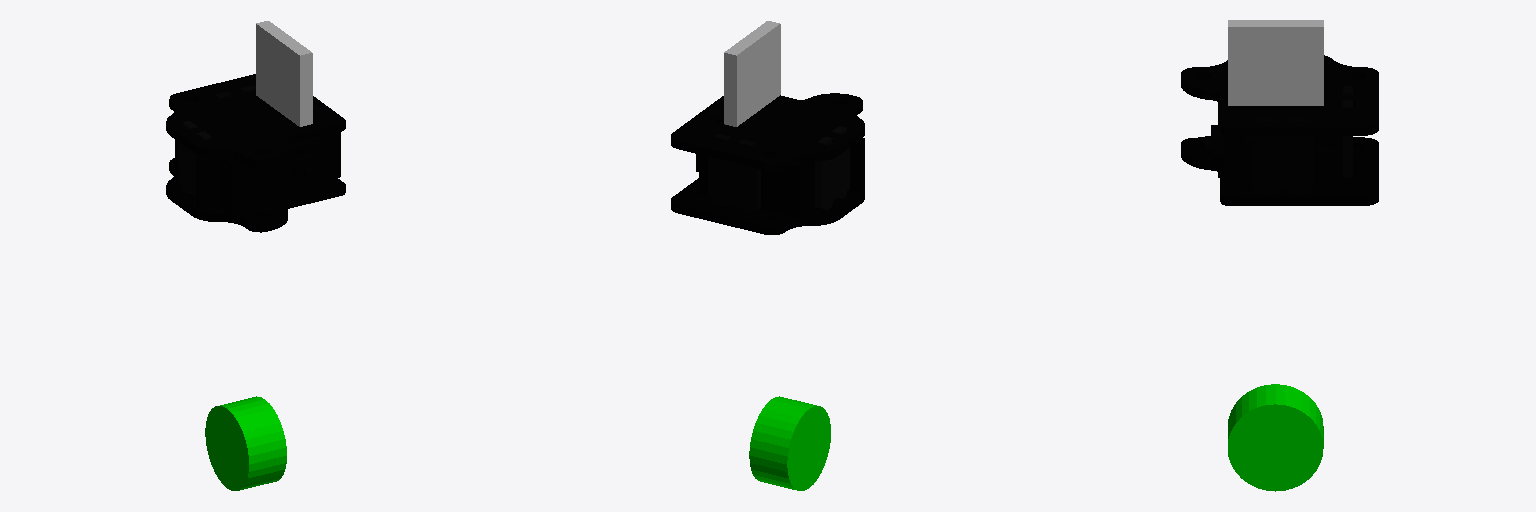
--- Render facts (derived) ---
The picture shows the robot from 3 angles, left to right: view 1: azimuth 30°, elevation 25°; view 2: azimuth 150°, elevation 25°; view 3: azimuth 270°, elevation 25°; orthographic projection.
Model mybot with 20 links and 19 joints (3 revolute, 2 continuous, 14 fixed), rooted at base_footprint, posed every joint at zero.
Visible links, largest first — view 1: base_camera1, servo_garra1, bumper_link, camera_link, base_link_garra, lat31; view 2: base_camera1, bumper_link, camera_link, base_link_garra, servo_garra1, lat11, lat31; view 3: bumper_link, camera_link, base_camera1, base_link_garra, servo_garra1, lat21, lat11.
Boxes of the visible links, x1,y1,x2,y2 form: base_camera1: (166,74,345,167); servo_garra1: (175,132,340,215); bumper_link: (205,396,286,490); camera_link: (256,21,312,126); base_link_garra: (166,158,345,232); lat31: (179,121,211,194); base_camera1: (671,93,864,170); bumper_link: (749,396,830,490); camera_link: (724,21,780,126); base_link_garra: (671,178,864,234); servo_garra1: (696,138,864,218); lat11: (708,134,760,211); lat31: (815,126,849,209); bumper_link: (1228,384,1323,491); camera_link: (1228,20,1323,105); base_camera1: (1181,55,1378,135); base_link_garra: (1181,137,1378,205); servo_garra1: (1205,102,1342,198); lat21: (1253,117,1313,194); lat11: (1343,86,1352,177).
Size in the robot's own frame: 0.0567 by 0.0621 by 0.1645 metres.
Meshes: 13 distinct files referenced, 6 mesh visuals loaded (6 Collada DAE); not drawn: 7 (reference not matched to a file when rendering).

robot.urdf — mybot:
<?xml version="1.0" ?>
<!-- =================================================================================== -->
<!-- |    This document was autogenerated by xacro from mybot.urdf.xacro               | -->
<!-- |    EDITING THIS FILE BY HAND IS NOT RECOMMENDED                                 | -->
<!-- =================================================================================== -->
<robot name="mybot">
  <!-- Init colour -->
  <material name="black">
    <color rgba="0.0 0.0 0.0 1.0"/>
  </material>
  <material name="dark">
    <color rgba="0.3 0.3 0.3 1.0"/>
  </material>
  <material name="light_black">
    <color rgba="0.4 0.4 0.4 1.0"/>
  </material>
  <material name="blue">
    <color rgba="0.0 0.0 0.8 1.0"/>
  </material>
  <material name="green">
    <color rgba="0.0 0.8 0.0 1.0"/>
  </material>
  <material name="grey">
    <color rgba="0.5 0.5 0.5 1.0"/>
  </material>
  <material name="orange">
    <color rgba="1.0 0.4235294117647059 0.0392156862745098 1.0"/>
  </material>
  <material name="brown">
    <color rgba="0.8705882352941177 0.8117647058823529 0.7647058823529411 1.0"/>
  </material>
  <material name="red">
    <color rgba="0.8 0.0 0.0 1.0"/>
  </material>
  <material name="white">
    <color rgba="1.0 1.0 1.0 1.0"/>
  </material>
  <gazebo reference="base_link">
    <material>Gazebo/DarkGrey</material>
  </gazebo>
  <gazebo reference="wheel_left_link">
    <mu1>0.1</mu1>
    <mu2>0.1</mu2>
    <kp>500000.0</kp>
    <kd>10.0</kd>
    <minDepth>0.001</minDepth>
    <maxVel>0.1</maxVel>
    <fdir1>1 0 0</fdir1>
    <material>Gazebo/FlatBlack</material>
  </gazebo>
  <gazebo reference="wheel_right_link">
    <mu1>0.1</mu1>
    <mu2>0.1</mu2>
    <kp>500000.0</kp>
    <kd>10.0</kd>
    <minDepth>0.001</minDepth>
    <maxVel>0.1</maxVel>
    <fdir1>1 0 0</fdir1>
    <material>Gazebo/FlatBlack</material>
  </gazebo>
  <gazebo reference="caster_back_link">
    <mu1>0.1</mu1>
    <mu2>0.1</mu2>
    <kp>1000000.0</kp>
    <kd>100.0</kd>
    <minDepth>0.001</minDepth>
    <maxVel>1.0</maxVel>
    <material>Gazebo/FlatBlack</material>
  </gazebo>
  <gazebo reference="imu_link">
    <sensor name="imu" type="imu">
      <always_on>true</always_on>
      <visualize>false</visualize>
    </sensor>
    <material>Gazebo/FlatBlack</material>
  </gazebo>
  <gazebo>
    <plugin filename="libgazebo_ros_diff_drive.so" name="turtlebot3_burger_controller">
      <commandTopic>cmd_vel</commandTopic>
      <odometryTopic>odom</odometryTopic>
      <odometryFrame>odom</odometryFrame>
      <odometrySource>world</odometrySource>
      <publishOdomTF>true</publishOdomTF>
      <robotBaseFrame>base_footprint</robotBaseFrame>
      <publishWheelTF>false</publishWheelTF>
      <publishTf>true</publishTf>
      <publishWheelJointState>true</publishWheelJointState>
      <legacyMode>false</legacyMode>
      <updateRate>30</updateRate>
      <leftJoint>wheel_left_joint</leftJoint>
      <rightJoint>wheel_right_joint</rightJoint>
      <wheelSeparation>0.160</wheelSeparation>
      <wheelDiameter>0.066</wheelDiameter>
      <wheelAcceleration>1</wheelAcceleration>
      <wheelTorque>10</wheelTorque>
      <rosDebugLevel>na</rosDebugLevel>
    </plugin>
  </gazebo>
  <gazebo>
    <plugin filename="libgazebo_ros_imu.so" name="imu_plugin">
      <alwaysOn>true</alwaysOn>
      <bodyName>imu_link</bodyName>
      <topicName>imu</topicName>
      <serviceName>imu_service</serviceName>
      <gaussianNoise>0.0</gaussianNoise>
      <updateRate>200</updateRate>
      <imu>
        <noise>
          <type>gaussian</type>
          <rate>
            <mean>0.0</mean>
            <stddev>2e-4</stddev>
            <bias_mean>0.0000075</bias_mean>
            <bias_stddev>0.0000008</bias_stddev>
          </rate>
          <accel>
            <mean>0.0</mean>
            <stddev>1.7e-2</stddev>
            <bias_mean>0.1</bias_mean>
            <bias_stddev>0.001</bias_stddev>
          </accel>
        </noise>
      </imu>
    </plugin>
  </gazebo>
  <gazebo reference="base_scan">
    <material>Gazebo/FlatBlack</material>
    <sensor name="lds_lfcd_sensor" type="ray">
      <pose>0 0 0 0 0 0</pose>
      <visualize>false</visualize>
      <update_rate>5</update_rate>
      <ray>
        <scan>
          <horizontal>
            <samples>360</samples>
            <resolution>1</resolution>
            <min_angle>0.0</min_angle>
            <max_angle>6.28319</max_angle>
          </horizontal>
        </scan>
        <range>
          <min>0.120</min>
          <max>3.5</max>
          <resolution>0.015</resolution>
        </range>
        <noise>
          <type>gaussian</type>
          <mean>0.0</mean>
          <stddev>0.01</stddev>
        </noise>
      </ray>
      <plugin filename="libgazebo_ros_laser.so" name="gazebo_ros_lds_lfcd_controller">
        <topicName>scan</topicName>
        <frameName>base_scan</frameName>
      </plugin>
    </sensor>
  </gazebo>
  <!--bumper turtlebot3 insper-->
  <gazebo reference="bumper_link">
    <sensor name="contacts" type="contact">
      <contact>
        <collision>base_footprint_fixed_joint_lump__base_collision_collision_1</collision>
      </contact>
      <plugin filename="libgazebo_ros_bumper.so" name="gazebo_ros_bumper_controller">
        <always_on>true</always_on>
        <!--  <robotNamespace>/bumper</robotNamespace> -->
        <bumperTopicName>bumper_states</bumperTopicName>
        <frameName>bumper</frameName>
        <visualize>true</visualize>
        <update_rate>50.0</update_rate>
      </plugin>
    </sensor>
    <material>Gazebo/Green</material>
    <mu1>0.1</mu1>
    <mu2>0.1</mu2>
    <gravity>true</gravity>
    <selfCollide>false</selfCollide>
  </gazebo>
  <!--camera turtlebot3 insper-->
  <!--link : https://www.raspberrypi.org/documentation/hardware/camera/-->
  <gazebo reference="camera_rgb_frame">
    <sensor name="Pi Camera" type="camera">
      <always_on>true</always_on>
      <visualize>false</visualize>
      <camera>
        <horizontal_fov>1.085595</horizontal_fov>
        <image>
          <width>640</width>
          <height>480</height>
          <format>R8G8B8</format>
        </image>
        <clip>
          <near>0.03</near>
          <far>100</far>
        </clip>
      </camera>
      <plugin filename="libgazebo_ros_camera.so" name="camera_controller">
        <alwaysOn>true</alwaysOn>
        <updateRate>30.0</updateRate>
        <cameraName>camera</cameraName>
        <frameName>camera_rgb_optical_frame</frameName>
        <imageTopicName>image</imageTopicName>
        <cameraInfoTopicName>camera_info</cameraInfoTopicName>
        <hackBaseline>0.07</hackBaseline>
        <distortionK1>0.0</distortionK1>
        <distortionK2>0.0</distortionK2>
        <distortionK3>0.0</distortionK3>
        <distortionT1>0.0</distortionT1>
        <distortionT2>0.0</distortionT2>
      </plugin>
    </sensor>
  </gazebo>
  <!--garra turtlebot3 insper-->
  <!-- ROS Control -->
  <gazebo>
    <plugin filename="libgazebo_ros_control.so" name="gazebo_ros_control">
      <!-- <robotNamespace>/mybot</robotNamespace> -->
    </plugin>
  </gazebo>
  <!-- loading plugin: mimic joints works in gazebo now -->
  <gazebo>
    <plugin filename="libroboticsgroup_gazebo_mimic_joint_plugin.so" name="gazebo_gripper_ros_control">
      <joint>joint2</joint>
      <mimicJoint>joint3</mimicJoint>
      <multiplier>1.0</multiplier>
      <offset>0.0</offset>
      <!-- <hasPID>mybot/gazebo_ros_control/pid_gains/joint3</hasPID> -->
      <hasPID>gazebo_ros_control/pid_gains/joint3</hasPID>
    </plugin>
  </gazebo>
  <!-- estudar se precisa disso mesmo -->
  <gazebo reference="garra1garrabraco1">
    <kp>1000000.0</kp>
    <kd>100.0</kd>
    <mu1>30.0</mu1>
    <mu2>30.0</mu2>
    <maxVel>1.0</maxVel>
    <minDepth>0.001</minDepth>
    <material>Gazebo/DarkGrey</material>
  </gazebo>
  <gazebo reference="garra1garradireita1">
    <kp>1000000.0</kp>
    <kd>100.0</kd>
    <mu1>30.0</mu1>
    <mu2>30.0</mu2>
    <maxVel>1.0</maxVel>
    <minDepth>0.001</minDepth>
    <material>Gazebo/Green</material>
  </gazebo>
  <gazebo reference="garra1garraesquerda1">
    <kp>1000000.0</kp>
    <kd>100.0</kd>
    <mu1>30.0</mu1>
    <mu2>30.0</mu2>
    <maxVel>1.0</maxVel>
    <minDepth>0.001</minDepth>
    <material>Gazebo/Green</material>
  </gazebo>
  <!-- ROS Transmission -->
  <transmission name="joint1_tran">
    <type>transmission_interface/SimpleTransmission</type>
    <joint name="joint1">
      <!--  <hardwareInterface>hardware_interface/PositionJointInterface</hardwareInterface>-->
      <hardwareInterface>hardware_interface/EffortJointInterface</hardwareInterface>
    </joint>
    <actuator name="joint1_actr">
      <!--  <hardwareInterface>hardware_interface/PositionJointInterface</hardwareInterface>-->
      <hardwareInterface>hardware_interface/EffortJointInterface</hardwareInterface>
      <mechanicalReduction>1</mechanicalReduction>
      <!--para teste hardware_interface/PositionJointInterface
      <motorTorqueConstant>1</motorTorqueConstant>-->
    </actuator>
  </transmission>
  <transmission name="joint2_tran">
    <type>transmission_interface/SimpleTransmission</type>
    <joint name="joint2">
      <!--  <hardwareInterface>hardware_interface/PositionJointInterface</hardwareInterface>-->
      <hardwareInterface>hardware_interface/EffortJointInterface</hardwareInterface>
    </joint>
    <actuator name="joint2_actr">
      <!--  <hardwareInterface>hardware_interface/PositionJointInterface</hardwareInterface>-->
      <hardwareInterface>hardware_interface/EffortJointInterface</hardwareInterface>
      <mechanicalReduction>1</mechanicalReduction>
      <!--para teste hardware_interface/PositionJointInterface
      <motorTorqueConstant>1</motorTorqueConstant>-->
    </actuator>
  </transmission>
  <!-- 
  <transmission name="joint3_tran">
    <type>transmission_interface/SimpleTransmission</type>
    <joint name="joint3">
      <hardwareInterface>hardware_interface/EffortJointInterface</hardwareInterface>
    </joint>
    <actuator name="joint3_actr">
      <hardwareInterface>hardware_interface/EffortJointInterface</hardwareInterface>
      <mechanicalReduction>1</mechanicalReduction>
    </actuator>
  </transmission> -->
  <link name="base_footprint"/>
  <joint name="base_joint" type="fixed">
    <parent link="base_footprint"/>
    <child link="base_link"/>
    <origin rpy="0 0 0" xyz="0.0 0.0 0.010"/>
  </joint>
  <link name="base_link">
    <visual>
      <origin rpy="0 0 0" xyz="-0.032 0 0.0"/>
      <geometry>
        <mesh filename="package://mybot_description/meshes/bases/burger_base.stl" scale="0.001 0.001 0.001"/>
      </geometry>
      <material name="light_black"/>
    </visual>
    <collision>
      <origin rpy="0 0 0" xyz="-0.032 0 0.070"/>
      <geometry>
        <box size="0.140 0.140 0.143"/>
      </geometry>
    </collision>
    <inertial>
      <origin rpy="0 0 0" xyz="0 0 0"/>
      <mass value="8.2573504e-01"/>
      <inertia ixx="2.2124416e-03" ixy="-1.2294101e-05" ixz="3.4938785e-05" iyy="2.1193702e-03" iyz="-5.0120904e-06" izz="2.0064271e-03"/>
    </inertial>
  </link>
  <joint name="wheel_left_joint" type="continuous">
    <parent link="base_link"/>
    <child link="wheel_left_link"/>
    <origin rpy="-1.57 0 0" xyz="0.0 0.08 0.023"/>
    <axis xyz="0 0 1"/>
  </joint>
  <link name="wheel_left_link">
    <visual>
      <origin rpy="1.57 0 0" xyz="0 0 0"/>
      <geometry>
        <mesh filename="package://mybot_description/meshes/wheels/left_tire.stl" scale="0.001 0.001 0.001"/>
      </geometry>
      <material name="dark"/>
    </visual>
    <collision>
      <origin rpy="0 0 0" xyz="0 0 0"/>
      <geometry>
        <cylinder length="0.018" radius="0.033"/>
      </geometry>
    </collision>
    <inertial>
      <origin xyz="0 0 0"/>
      <mass value="2.8498940e-02"/>
      <inertia ixx="1.1175580e-05" ixy="-4.2369783e-11" ixz="-5.9381719e-09" iyy="1.1192413e-05" iyz="-1.4400107e-11" izz="2.0712558e-05"/>
    </inertial>
  </link>
  <joint name="wheel_right_joint" type="continuous">
    <parent link="base_link"/>
    <child link="wheel_right_link"/>
    <origin rpy="-1.57 0 0" xyz="0.0 -0.080 0.023"/>
    <axis xyz="0 0 1"/>
  </joint>
  <link name="wheel_right_link">
    <visual>
      <origin rpy="1.57 0 0" xyz="0 0 0"/>
      <geometry>
        <mesh filename="package://mybot_description/meshes/wheels/right_tire.stl" scale="0.001 0.001 0.001"/>
      </geometry>
      <material name="dark"/>
    </visual>
    <collision>
      <origin rpy="0 0 0" xyz="0 0 0"/>
      <geometry>
        <cylinder length="0.018" radius="0.033"/>
      </geometry>
    </collision>
    <inertial>
      <origin xyz="0 0 0"/>
      <mass value="2.8498940e-02"/>
      <inertia ixx="1.1175580e-05" ixy="-4.2369783e-11" ixz="-5.9381719e-09" iyy="1.1192413e-05" iyz="-1.4400107e-11" izz="2.0712558e-05"/>
    </inertial>
  </link>
  <joint name="caster_back_joint" type="fixed">
    <parent link="base_link"/>
    <child link="caster_back_link"/>
    <origin rpy="-1.57 0 0" xyz="-0.081 0 -0.004"/>
  </joint>
  <link name="caster_back_link">
    <collision>
      <origin rpy="0 0 0" xyz="0 0.001 0"/>
      <geometry>
        <box size="0.030 0.009 0.020"/>
      </geometry>
    </collision>
    <inertial>
      <origin xyz="0 0 0"/>
      <mass value="0.005"/>
      <inertia ixx="0.001" ixy="0.0" ixz="0.0" iyy="0.001" iyz="0.0" izz="0.001"/>
    </inertial>
  </link>
  <joint name="imu_joint" type="fixed">
    <parent link="base_link"/>
    <child link="imu_link"/>
    <origin rpy="0 0 0" xyz="-0.032 0 0.068"/>
  </joint>
  <link name="imu_link"/>
  <joint name="scan_joint" type="fixed">
    <parent link="base_link"/>
    <child link="base_scan"/>
    <origin rpy="0 0 0" xyz="-0.032 0 0.172"/>
  </joint>
  <link name="base_scan">
    <visual>
      <origin rpy="0 0 0" xyz="0 0 0.0"/>
      <geometry>
        <mesh filename="package://mybot_description/meshes/sensors/lds.stl" scale="0.001 0.001 0.001"/>
      </geometry>
      <material name="dark"/>
    </visual>
    <collision>
      <origin rpy="0 0 0" xyz="0.015 0 -0.0065"/>
      <geometry>
        <cylinder length="0.0315" radius="0.055"/>
      </geometry>
    </collision>
    <inertial>
      <mass value="0.114"/>
      <origin xyz="0 0 0"/>
      <inertia ixx="0.001" ixy="0.0" ixz="0.0" iyy="0.001" iyz="0.0" izz="0.001"/>
    </inertial>
  </link>
  <!-- camera turtlebot3 insper-->
  <joint name="camera_joint" type="fixed">
    <origin rpy="0 0.0 0" xyz="0.05 -0.011 0.138"/>
    <parent link="base_link"/>
    <child link="camera_link"/>
  </joint>
  <link name="camera_link">
    <visual>
      <origin rpy="0 0 0" xyz="0.005 0.011 0.013"/>
      <geometry>
        <box size="0.005 0.030 0.027"/>
      </geometry>
    </visual>
    <collision>
      <origin rpy="0 0 0" xyz="0.005 0.011 0.013"/>
      <geometry>
        <box size="0.005 0.030 0.027"/>
      </geometry>
    </collision>
  </link>
  <joint name="camera_rgb_joint" type="fixed">
    <origin rpy="0 0 0" xyz="0.003 0.011 0.009"/>
    <parent link="camera_link"/>
    <child link="camera_rgb_frame"/>
  </joint>
  <link name="camera_rgb_frame"/>
  <joint name="camera_rgb_optical_joint" type="fixed">
    <origin rpy="-1.57 0 -1.57" xyz="0 0 0"/>
    <parent link="camera_rgb_frame"/>
    <child link="camera_rgb_optical_frame"/>
  </joint>
  <link name="camera_rgb_optical_frame"/>
  <!-- bumper turtlebot3 insper-->
  <link name="bumper_link">
    <inertial>
      <origin rpy="0 1.0 0" xyz="0.0 0.0 0.0"/>
      <mass value="0.0000000001"/>
      <inertia ixx="0.00000001" ixy="0.00000001" ixz="0.00000001" iyy="0.00000001" iyz="0.00000001" izz="0.00000001"/>
    </inertial>
    <visual>
      <origin rpy="0.0 1.57 0" xyz="0.0 0.0 0.0"/>
      <geometry>
        <cylinder length="0.015" radius="0.015"/>
      </geometry>
      <material name="green"/>
    </visual>
    <collision name="base_collision">
      <origin rpy="0.0 1.57 0.0" xyz="0.0 0.0 0.0"/>
      <geometry>
        <cylinder length="0.015" radius="0.015"/>
      </geometry>
    </collision>
  </link>
  <joint name="bumper_joint" type="fixed">
    <origin rpy="0.0 0.0 0.0" xyz="0.04 0.0 0.015"/>
    <parent link="base_link"/>
    <child link="bumper_link"/>
  </joint>
  <!-- garra turtlebot3 insper-->
  <joint name="base_joint_garra" type="fixed">
    <parent link="base_link"/>
    <child link="base_link_garra"/>
    <origin rpy="0 0 -1.57" xyz="0.044 0.005 0.108"/>
  </joint>
  <link name="base_link_garra">
    <inertial>
      <origin rpy="0 0 0" xyz="0.0005 -0.0001 0.002"/>
      <mass value="0.0001"/>
      <inertia ixx="1.9768356736455373e-06" ixy="3.3842609487814834e-07" ixz="3.3087224502121107e-23" iyy="2.1568932661454165e-06" iyz="-2.274746684520826e-23" izz="4.120108098287789e-06"/>
    </inertial>
    <visual>
      <origin rpy="0 0 0" xyz="0 0 0"/>
      <geometry>
        <mesh filename="package://mybot_description/meshes/garra/base_link_garra.dae" scale="0.001 0.001 0.001"/>
      </geometry>
      <gazebo reference="base_link_garra">
    </gazebo>
    </visual>
    <collision>
      <origin rpy="0 0 0" xyz="0 0 0"/>
      <geometry>
        <mesh filename="package://mybot_description/meshes/garra/base_link_garra.dae" scale="0.001 0.001 0.001"/>
      </geometry>
    </collision>
  </link>
  <link name="lat31">
    <inertial>
      <origin rpy="0 0 0" xyz="-0.005014384312211391 -0.0015000010654330244 0.013948367968184407"/>
      <mass value="0.0001"/>
      <inertia ixx="8.662089264671677e-08" ixy="0.0" ixz="1.2947458053521905e-11" iyy="1.3378883884262552e-07" iyz="0.0" izz="4.9622899604909504e-08"/>
    </inertial>
    <visual>
      <origin rpy="0 0 0" xyz="-0.007563 0.0205 -0.001"/>
      <geometry>
        <mesh filename="package://mybot_description/meshes/garra/lat31.dae" scale="0.001 0.001 0.001"/>
      </geometry>
      <gazebo reference="lat31">
    </gazebo>
    </visual>
    <collision>
      <origin rpy="0 0 0" xyz="-0.007563 0.0205 -0.001"/>
      <geometry>
        <mesh filename="package://mybot_description/meshes/garra/lat31.dae" scale="0.001 0.001 0.001"/>
      </geometry>
    </collision>
  </link>
  <link name="lat11">
    <inertial>
      <origin rpy="0 0 0" xyz="-0.00149999999999997 0.004954936394439788 0.013948367968184407"/>
      <mass value="0.0001"/>
      <inertia ixx="1.3378883884262488e-07" ixy="-2.6469779601696886e-23" ixz="0.0" iyy="8.66208926467172e-08" iyz="1.294745805340279e-11" izz="4.962289960490908e-08"/>
    </inertial>
    <visual>
      <origin rpy="0 0 0" xyz="0.016 0.0 -0.001"/>
      <geometry>
        <mesh filename="package://mybot_description/meshes/garra/lat11.dae" scale="0.001 0.001 0.001"/>
      </geometry>
      <gazebo reference="lat11">     
    </gazebo>
    </visual>
    <collision>
      <origin rpy="0 0 0" xyz="0.016 0.0 -0.001"/>
      <geometry>
        <mesh filename="package://mybot_description/meshes/garra/lat11.dae" scale="0.001 0.001 0.001"/>
      </geometry>
    </collision>
  </link>
  <link name="lat21">
    <inertial>
      <origin rpy="0 0 0" xyz="0.004954582993387833 0.0014999998509883788 0.013948367968184407"/>
      <mass value="0.0001"/>
      <inertia ixx="8.66208926467172e-08" ixy="-3.970466940254533e-23" ixz="1.294745805356161e-11" iyy="1.3378883884262557e-07" iyz="0.0" izz="4.9622899604909715e-08"/>
    </inertial>
    <visual>
      <origin rpy="0 0 0" xyz="0.002445 -0.0205 -0.001"/>
      <geometry>
        <mesh filename="package://mybot_description/meshes/garra/lat21.dae" scale="0.001 0.001 0.001"/>
      </geometry>
    </visual>
    <collision>
      <origin rpy="0 0 0" xyz="0.002445 -0.0205 -0.001"/>
      <geometry>
        <mesh filename="package://mybot_description/meshes/garra/lat21.dae" scale="0.001 0.001 0.001"/>
      </geometry>
    </collision>
  </link>
  <link name="servo_garra1">
    <inertial>
      <origin rpy="0 0 0" xyz="0.0003331581426503209 0.00010673599128592421 0.010000547183940757"/>
      <mass value="0.001"/>
      <inertia ixx="6.084896121919108e-06" ixy="7.673237329744245e-10" ixz="2.6844653998574326e-10" iyy="5.525444825215397e-06" iyz="-4.006713086347275e-10" izz="9.353516497648977e-06"/>
    </inertial>
    <visual>
      <origin rpy="0 0 0" xyz="-0.003609 5.8e-05 -0.004"/>
      <geometry>
        <mesh filename="package://mybot_description/meshes/garra/servo_garra1.dae" scale="0.001 0.001 0.001"/>
      </geometry>
    </visual>
    <collision>
      <origin rpy="0 0 0" xyz="-0.003609 5.8e-05 -0.004"/>
      <geometry>
        <mesh filename="package://mybot_description/meshes/garra/servo_garra1.dae" scale="0.001 0.001 0.001"/>
      </geometry>
    </collision>
  </link>
  <link name="base_camera1">
    <inertial>
      <origin rpy="0 0 0" xyz="-0.004389339547781822 0.020361286436828687 0.001500000342726699"/>
      <mass value="0.0001"/>
      <inertia ixx="1.9742676232972737e-06" ixy="3.353038926051923e-07" ixz="-1.641126335305207e-21" iyy="2.1544513492515026e-06" iyz="1.1249656330721176e-21" izz="4.115104278945627e-06"/>
    </inertial>
    <visual>
      <origin rpy="0 0 0" xyz="-0.005038 0.0205 -0.0252"/>
      <geometry>
        <mesh filename="package://mybot_description/meshes/garra/base_camera1.dae" scale="0.001 0.001 0.001"/>
      </geometry>
    </visual>
    <collision>
      <origin rpy="0 0 0" xyz="-0.005038 0.0205 -0.0252"/>
      <geometry>
        <mesh filename="package://mybot_description/meshes/garra/base_camera1.dae" scale="0.001 0.001 0.001"/>
      </geometry>
    </collision>
  </link>
  <link name="garra1garrabraco1">
    <inertial>
      <origin rpy="0 0 0" xyz="-0.0037506353032803787 0.05642585700103959 0.0018237999124817317"/>
      <mass value="2.8498940e-03"/>
      <inertia ixx="1.1175580e-05" ixy="0.0" ixz="0.0" iyy="1.1192413e-05" iyz="0.0" izz="2.0712558e-05"/>
    </inertial>
    <visual>
      <origin rpy="0 0 0" xyz="-0.027109 -0.009942 -0.014"/>
      <geometry>
        <mesh filename="package://mybot_description/meshes/garra/arm.dae" scale="0.001 0.001 0.001"/>
      </geometry>
    </visual>
    <collision>
      <origin rpy="0 0 0" xyz="-0.027109 -0.009942 -0.014"/>
      <geometry>
        <mesh filename="package://mybot_description/meshes/garra/arm.dae" scale="0.001 0.001 0.001"/>
      </geometry>
    </collision>
  </link>
  <link name="garra1garradireita1">
    <inertial>
      <origin rpy="0 0 0" xyz="0.010935004857829403 0.022288541926215877 0.00183118936157051"/>
      <mass value="0.80e-02"/>
      <inertia ixx="1.1175580e-05" ixy="0.0" ixz="0.0" iyy="1.1192413e-05" iyz="0.0" izz="2.0712558e-05"/>
    </inertial>
    <visual>
      <origin rpy="0 0 0" xyz="-0.023009 -0.086931 -0.0205"/>
      <geometry>
        <mesh filename="package://mybot_description/meshes/garra/direita.dae" scale="0.001 0.001 0.001"/>
      </geometry>
      <material name="green"/>
    </visual>
    <collision>
      <origin rpy="0 0 0" xyz="-0.023009 -0.086931 -0.0205"/>
      <geometry>
        <mesh filename="package://mybot_description/meshes/garra/direita.dae" scale="0.001 0.001 0.001"/>
      </geometry>
    </collision>
  </link>
  <link name="garra1garraesquerda1">
    <inertial>
      <origin rpy="0 0 0" xyz="-0.009562998839609715 0.0191706945123718 0.0023786783548043755"/>
      <mass value="0.80e-03"/>
      <inertia ixx="1.1175580e-05" ixy="0.0" ixz="0.0" iyy="1.1192413e-05" iyz="0.0" izz="2.0712558e-05"/>
    </inertial>
    <visual>
      <origin rpy="0 0 0" xyz="-0.006109 -0.088614 -0.0205"/>
      <material name="green"/>
      <geometry>
        <mesh filename="package://mybot_description/meshes/garra/esquerda.dae" scale="0.001 0.001 0.001"/>
      </geometry>
    </visual>
    <collision>
      <origin rpy="0 0 0" xyz="-0.006109 -0.088614 -0.0205"/>
      <geometry>
        <mesh filename="package://mybot_description/meshes/garra/esquerda.dae" scale="0.001 0.001 0.001"/>
      </geometry>
    </collision>
  </link>
  <joint name="Rigid1" type="fixed">
    <origin rpy="0 0 0" xyz="0.007563 -0.0205 0.001"/>
    <parent link="base_link_garra"/>
    <child link="lat31"/>
  </joint>
  <joint name="Rigid2" type="fixed">
    <origin rpy="0 0 0" xyz="-0.016 0.0 0.001"/>
    <parent link="base_link_garra"/>
    <child link="lat11"/>
  </joint>
  <joint name="Rigid3" type="fixed">
    <origin rpy="0 0 0" xyz="-0.002445 0.0205 0.001"/>
    <parent link="base_link_garra"/>
    <child link="lat21"/>
  </joint>
  <joint name="Rigid4" type="fixed">
    <origin rpy="0 0 0" xyz="0.003609 -5.8e-05 0.004"/>
    <parent link="base_link_garra"/>
    <child link="servo_garra1"/>
  </joint>
  <joint name="Rigid5" type="fixed">
    <origin rpy="0 0 0" xyz="-0.002525 0.0 0.0242"/>
    <parent link="lat31"/>
    <child link="base_camera1"/>
  </joint>
  <joint name="joint1" type="revolute">
    <origin rpy="0 0 0" xyz="0.0235 0.01 0.01"/>
    <limit effort="1" lower="-1.50" upper="1.5" velocity="0.1"/>
    <parent link="servo_garra1"/>
    <child link="garra1garrabraco1"/>
    <axis xyz="1.0 0.0 0.0"/>
  </joint>
  <joint name="joint2" type="revolute">
    <origin rpy="0 0 0" xyz="-0.0041 0.076989 0.0065"/>
    <limit effort="1" lower="-1" upper="0" velocity="0.1"/>
    <parent link="garra1garrabraco1"/>
    <child link="garra1garradireita1"/>
    <axis xyz="0.0 -0.0 1.0"/>
    <dynamics damping="0.02" friction="0.0"/>
  </joint>
  <joint name="joint3" type="revolute">
    <origin rpy="0 0 0" xyz="-0.021 0.078672 0.0065"/>
    <limit effort="1" lower="-1" upper="0" velocity="0.1"/>
    <parent link="garra1garrabraco1"/>
    <child link="garra1garraesquerda1"/>
    <mimic joint="joint2" multiplier="1" offset="0"/>
    <axis xyz="0.0 -0.0 -1.0"/>
    <dynamics damping="0.02" friction="0.0"/>
  </joint>
</robot>
